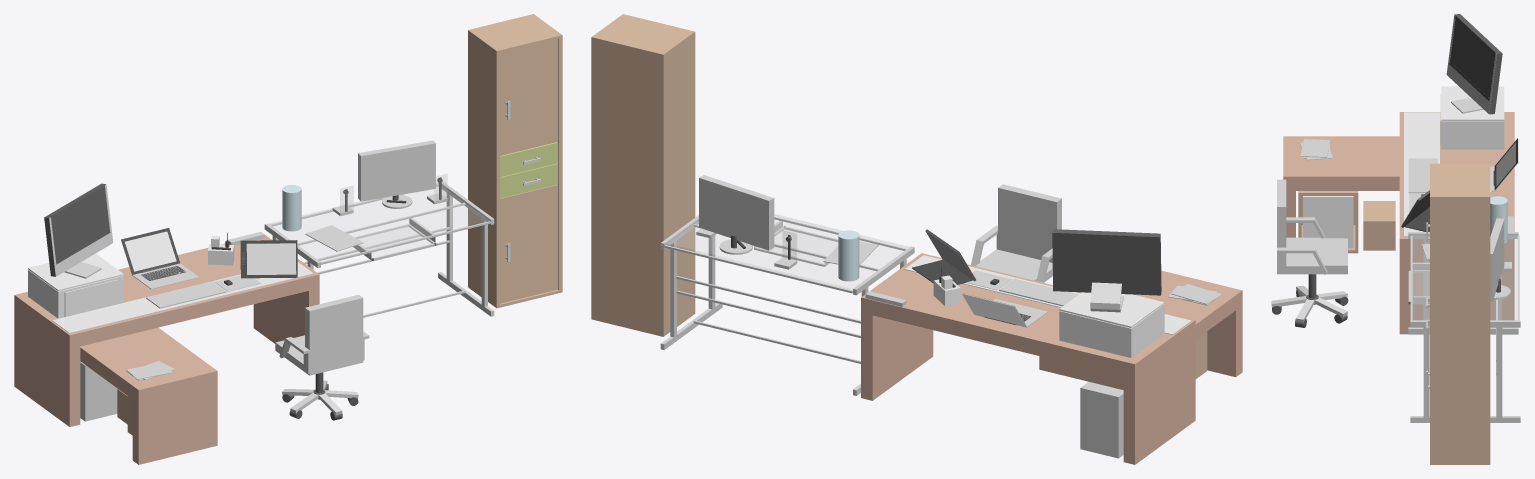
Rendered from studyroom6.glb.
3 views of the same model, side by side, from view 1: azimuth 30°, elevation 25°; view 2: azimuth 150°, elevation 25°; view 3: azimuth 270°, elevation 25° (orthographic). The views are drawn at different scales.
Parts seen in each view (by area): view 1: Cube.078, Cube, Cube.023, Cube.008, Cube.080, Cube.001, Cube.004, Cube.003, PetitEcran, Cube.127, iMac, Cube.012 (+21 smaller); view 2: Cube.076, Cube, Cube.078, iMac, Cube.003, Cube.023, Cube.002, PetitEcran, Cube.001, Cube.127, Cube.007, Cube.016 (+15 smaller); view 3: Cube.084, Cube.001, Cube, Cube.023, iMac, Cube.002, Cube.012, Cube.069, Cube.083, Cube.128, Cube.007, Cube.017 (+22 smaller).
Part boxes in pixels (bbox=[...]): Cube.078: bbox=[468, 31, 500, 305]; Cube: bbox=[14, 234, 319, 348]; Cube.023: bbox=[269, 182, 490, 262]; Cube.008: bbox=[500, 184, 558, 303]; Cube.080: bbox=[500, 39, 558, 155]; Cube.001: bbox=[80, 327, 217, 403]; Cube.004: bbox=[132, 384, 217, 464]; Cube.003: bbox=[14, 309, 80, 426]; PetitEcran: bbox=[358, 140, 435, 201]; Cube.127: bbox=[305, 294, 363, 367]; iMac: bbox=[44, 183, 109, 276]; Cube.012: bbox=[52, 262, 313, 333]; Cube.076: bbox=[595, 38, 659, 332]; Cube: bbox=[861, 253, 1195, 379]; Cube.078: bbox=[659, 35, 695, 333]; iMac: bbox=[1052, 229, 1161, 295]; Cube.003: bbox=[1123, 335, 1195, 464]; Cube.023: bbox=[666, 214, 908, 290]; Cube.002: bbox=[861, 312, 933, 400]; PetitEcran: bbox=[699, 175, 774, 250]; Cube.001: bbox=[1039, 270, 1242, 389]; Cube.127: bbox=[998, 184, 1061, 262]; Cube.007: bbox=[1059, 304, 1164, 357]; Cube.016: bbox=[1080, 381, 1123, 458]; Cube.084: bbox=[1430, 195, 1490, 461]; Cube.001: bbox=[1283, 136, 1399, 190]; Cube: bbox=[1399, 112, 1514, 253]; Cube.023: bbox=[1410, 234, 1518, 319]; iMac: bbox=[1450, 14, 1502, 114]; Cube.002: bbox=[1399, 253, 1514, 334]; Cube.012: bbox=[1404, 112, 1439, 236]; Cube.069: bbox=[1303, 196, 1353, 248]; Cube.083: bbox=[1430, 163, 1490, 199]; Cube.128: bbox=[1277, 238, 1347, 274]; Cube.007: bbox=[1441, 121, 1504, 149]; Cube.017: bbox=[1363, 201, 1395, 250].
Bounding box in the file's own units: 3.86 × 1.87 × 1.58.
